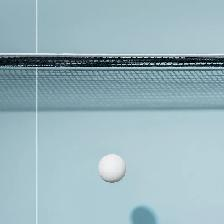WhiteBall: (95, 154, 128, 183)
